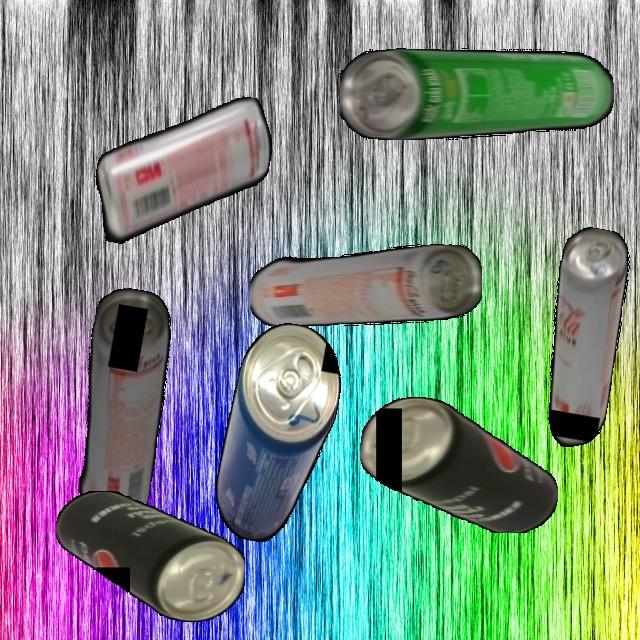debris: (85, 74, 280, 266), (208, 316, 350, 551), (60, 284, 183, 531), (360, 396, 558, 533), (340, 47, 614, 140), (529, 224, 637, 455), (55, 491, 245, 622), (249, 244, 482, 326)
